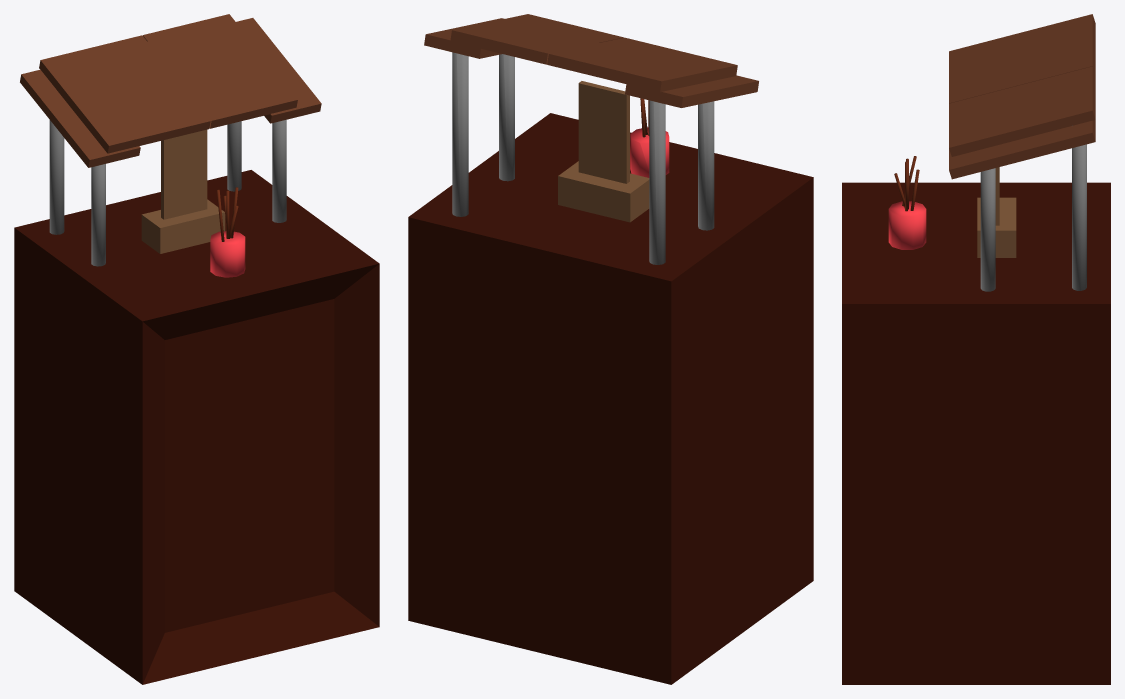
Rendered from god table.fbx.
The picture shows the model from 3 angles, left to right: view 1: azimuth 30°, elevation 25°; view 2: azimuth 150°, elevation 25°; view 3: azimuth 270°, elevation 25°; orthographic projection. The views are drawn at different scales.
Parts seen in each view (by area): view 1: Cube; view 2: Cube; view 3: Cube.
Boxes of the visible parts, box(x1,y1,x2,y2) form: Cube: box(14, 14, 379, 684); Cube: box(408, 14, 813, 684); Cube: box(842, 14, 1110, 684).
Bounding box in the file's own units: 96.34 × 205 × 89.54.
